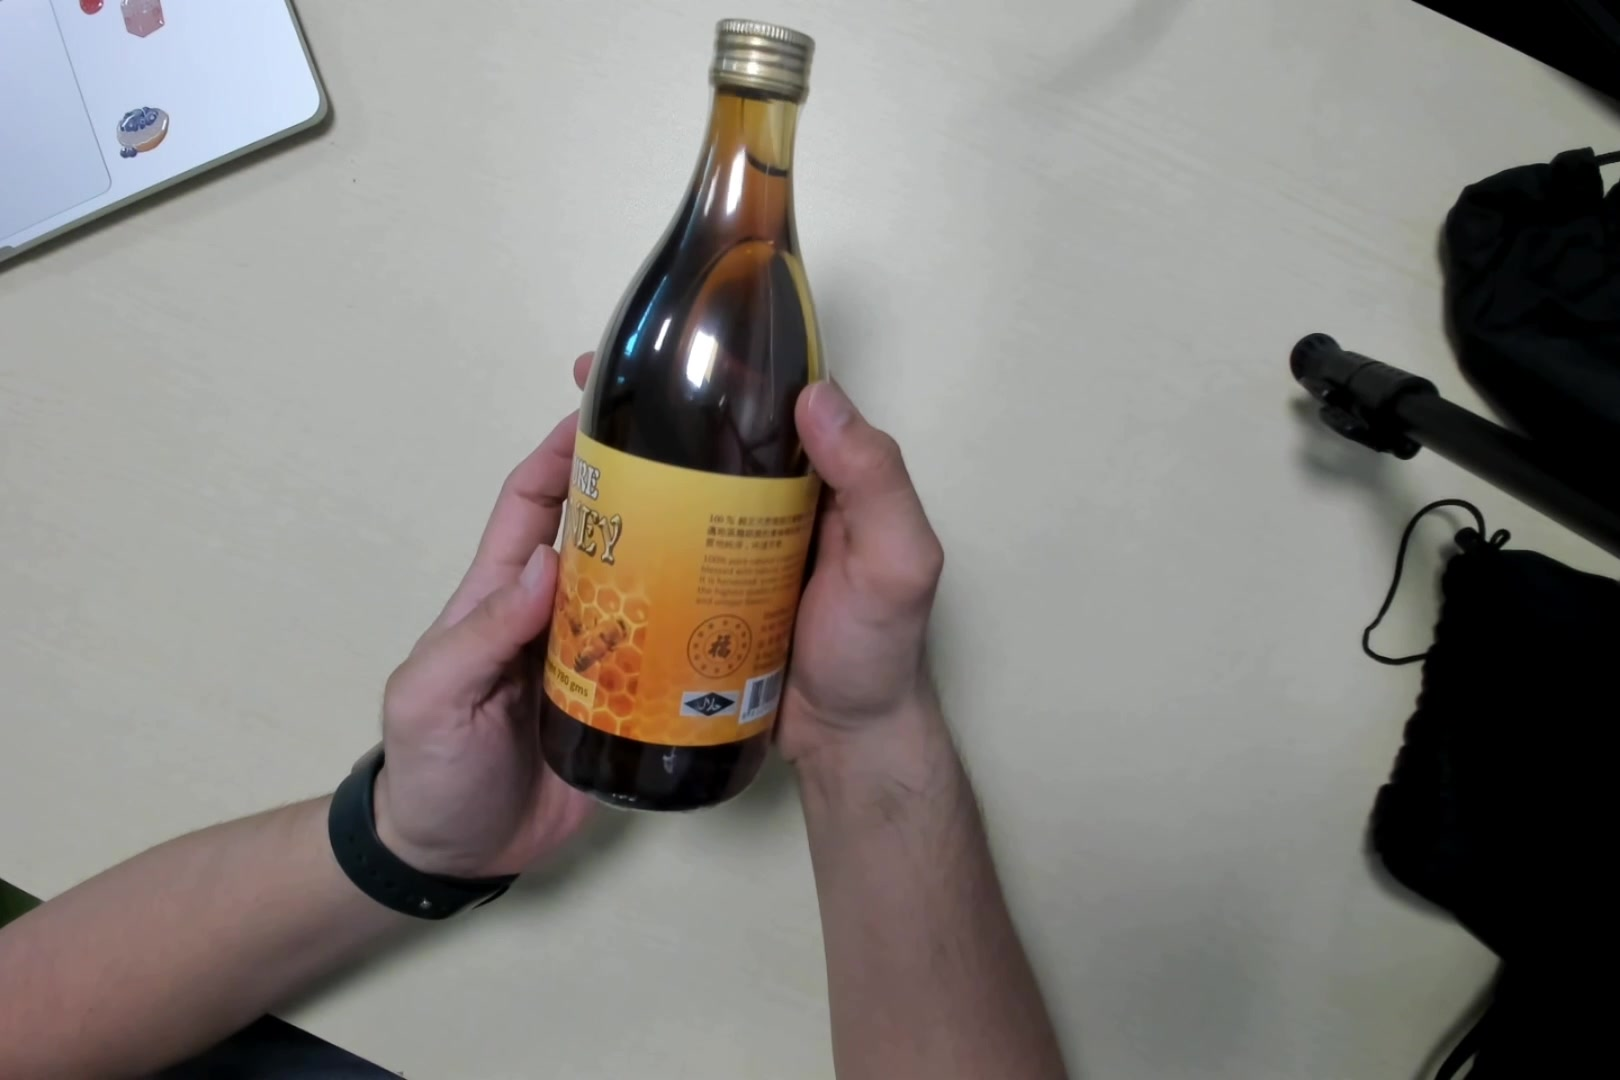OtherBakingNeeds_700-799g_Halal_NonHealthy: (542, 10, 824, 804)
